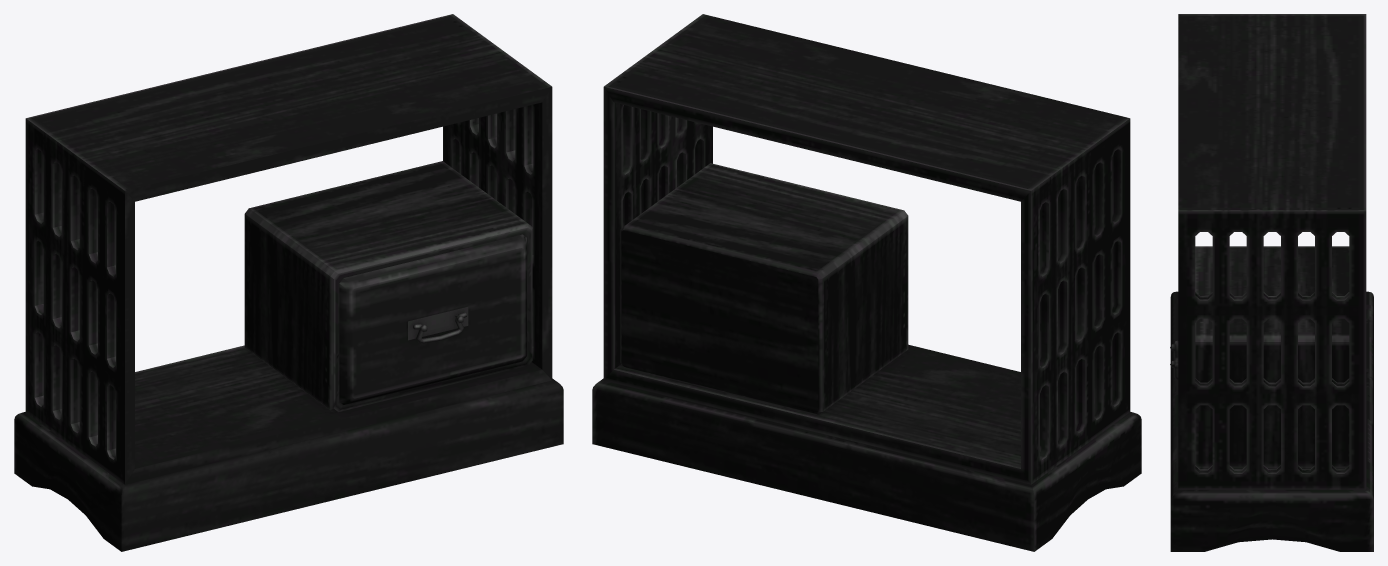
Rendered from Shelf1.a.fbx.
The picture shows the model from 3 angles, left to right: view 1: azimuth 30°, elevation 25°; view 2: azimuth 150°, elevation 25°; view 3: azimuth 270°, elevation 25°; orthographic projection. The views are drawn at different scales.
Parts seen in each view (by area): view 1: Group 0; view 2: Group 0; view 3: Group 0.
Boxes of the visible parts, bbox=[...] form: Group 0: bbox=[14, 14, 563, 551]; Group 0: bbox=[592, 14, 1141, 551]; Group 0: bbox=[1170, 14, 1373, 551].
Size of the model in its own units: 93.55 by 72.02 by 39.48.
Materials: 1 (1 with a texture image).
